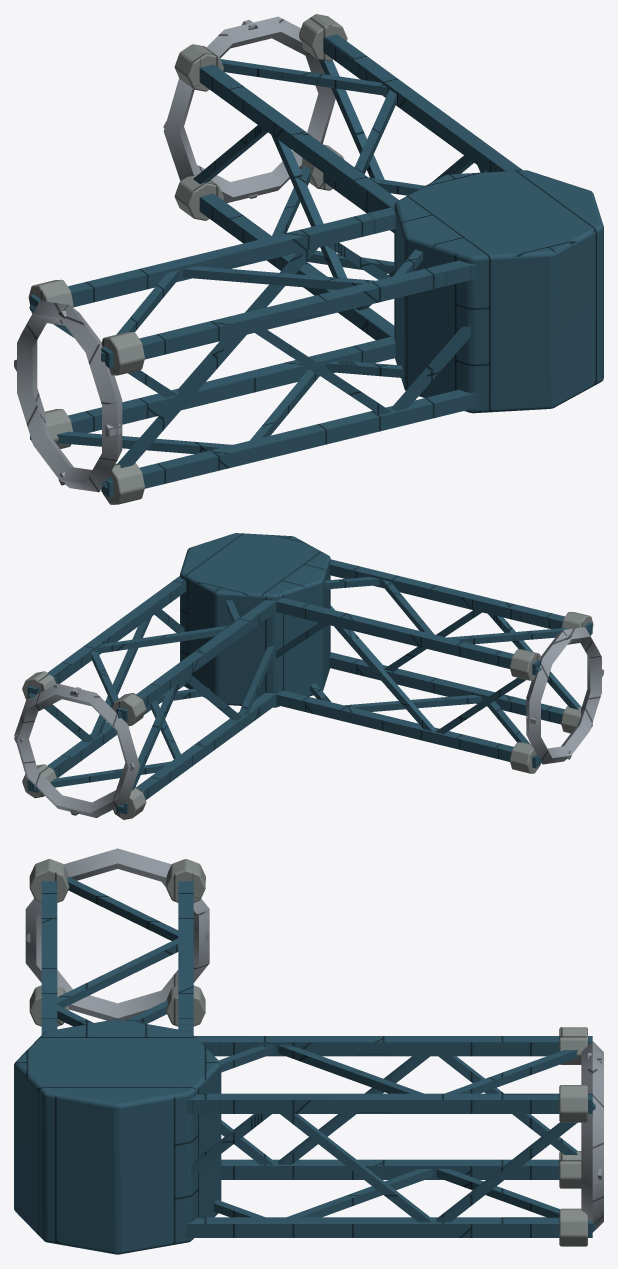
File: truss_corner_90_lod1.glb
3 views of the same model, one above another, from view 1: azimuth 30°, elevation 25°; view 2: azimuth 150°, elevation 25°; view 3: azimuth 270°, elevation 25° (orthographic). The views are drawn at different scales.
Parts seen in each view (by area): view 1: LOD1_Armor, LOD1_BrushedMetal, LOD1_Hull; view 2: LOD1_Armor, LOD1_BrushedMetal, LOD1_Hull; view 3: LOD1_Armor, LOD1_BrushedMetal, LOD1_Hull.
Boxes of the visible parts, left/top/right/bottom form: LOD1_Armor: left=29, top=34, right=603, bottom=497; LOD1_BrushedMetal: left=14, top=16, right=335, bottom=492; LOD1_Hull: left=28, top=14, right=347, bottom=504; LOD1_Armor: left=27, top=533, right=592, bottom=814; LOD1_BrushedMetal: left=14, top=627, right=603, bottom=817; LOD1_Hull: left=22, top=612, right=593, bottom=819; LOD1_Armor: left=14, top=876, right=595, bottom=1254; LOD1_BrushedMetal: left=25, top=848, right=603, bottom=1232; LOD1_Hull: left=29, top=859, right=587, bottom=1246.
Bounding box in the file's own units: 4.97 × 1.63 × 4.97.
Materials: 3 (3 with a texture image).
